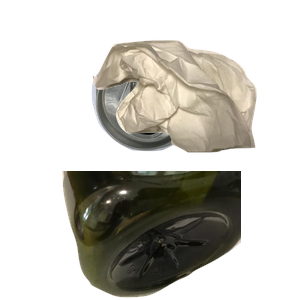glass: (102, 181, 246, 300)
metal: (89, 48, 276, 192)
plastic: (60, 171, 300, 300)
trash: (90, 38, 300, 183)
